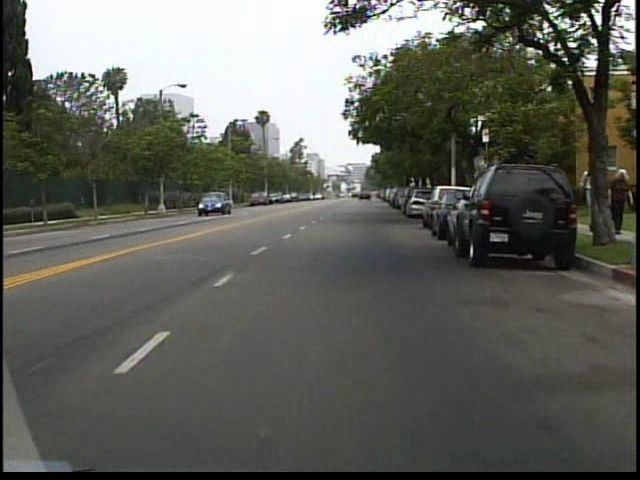person: (604, 162, 633, 241), (572, 158, 596, 237)
